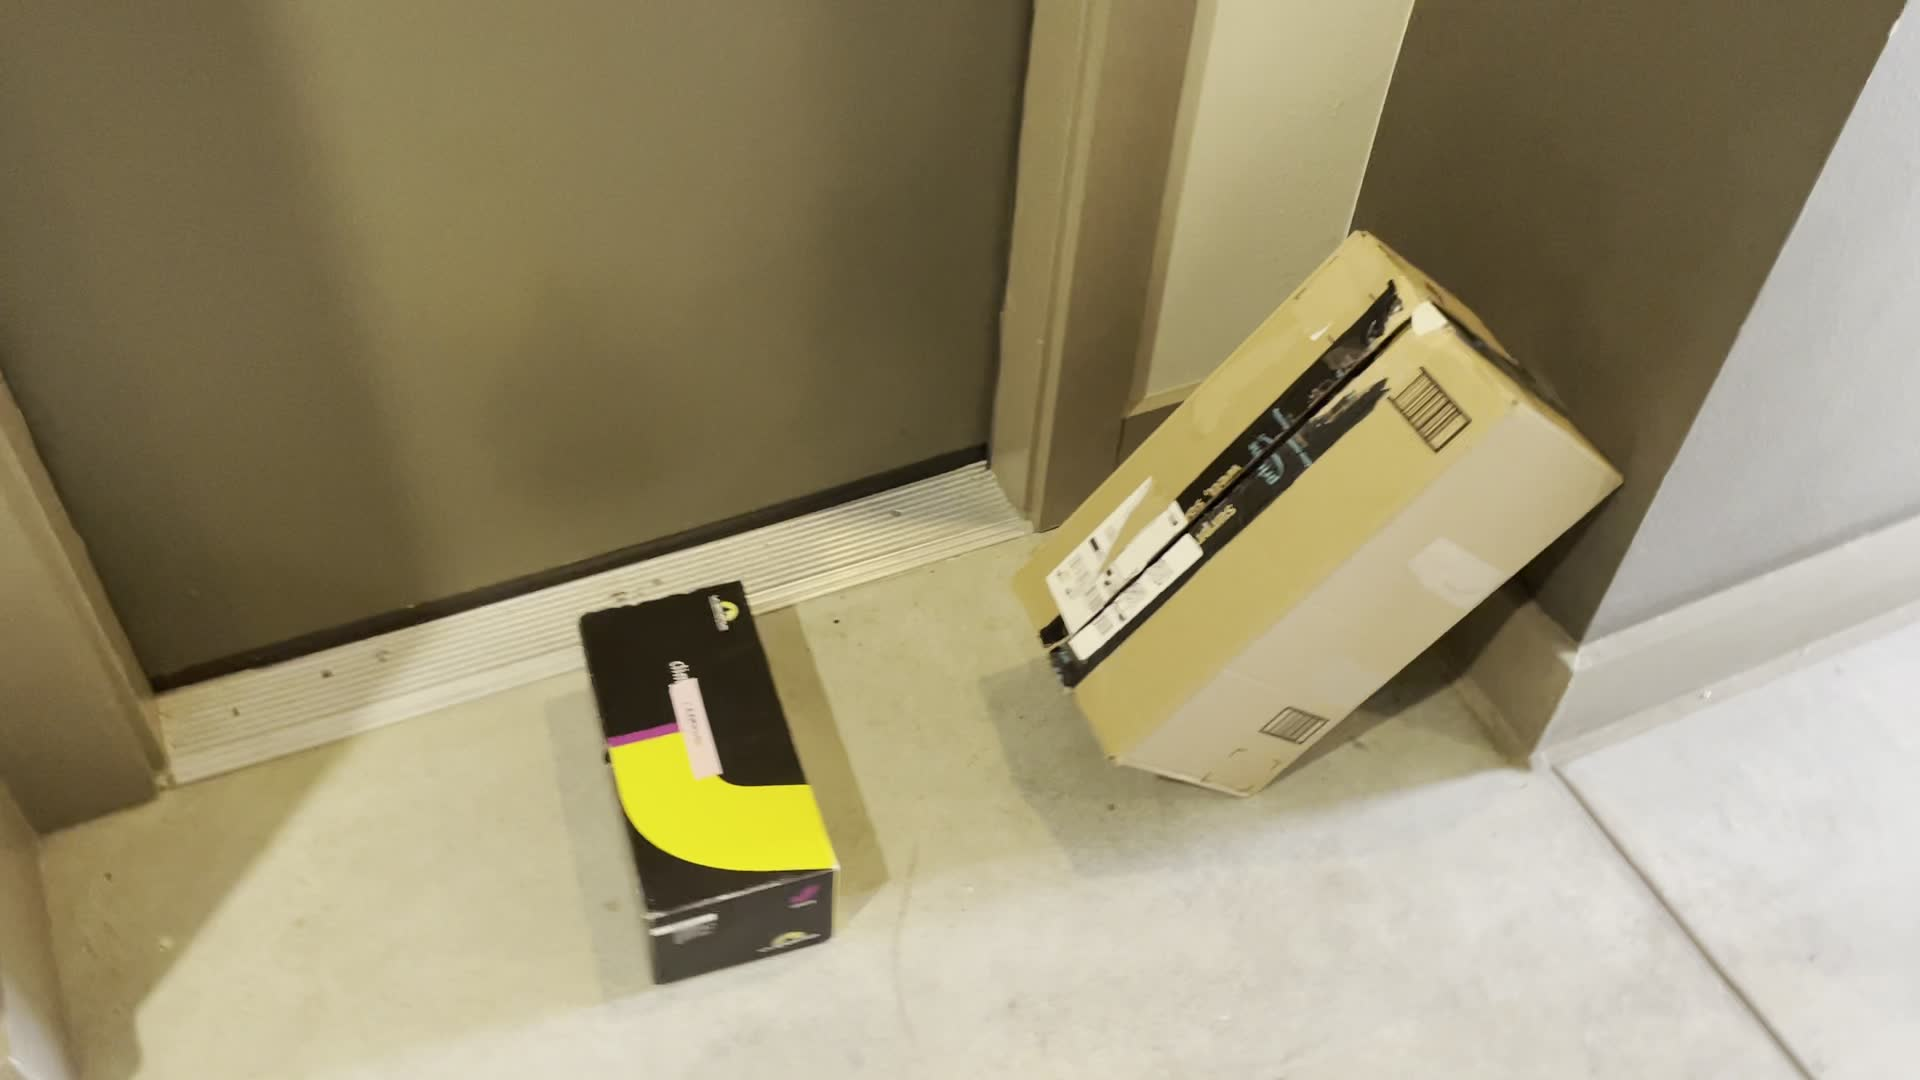box: (1014, 222, 1621, 814), (554, 587, 860, 963)
